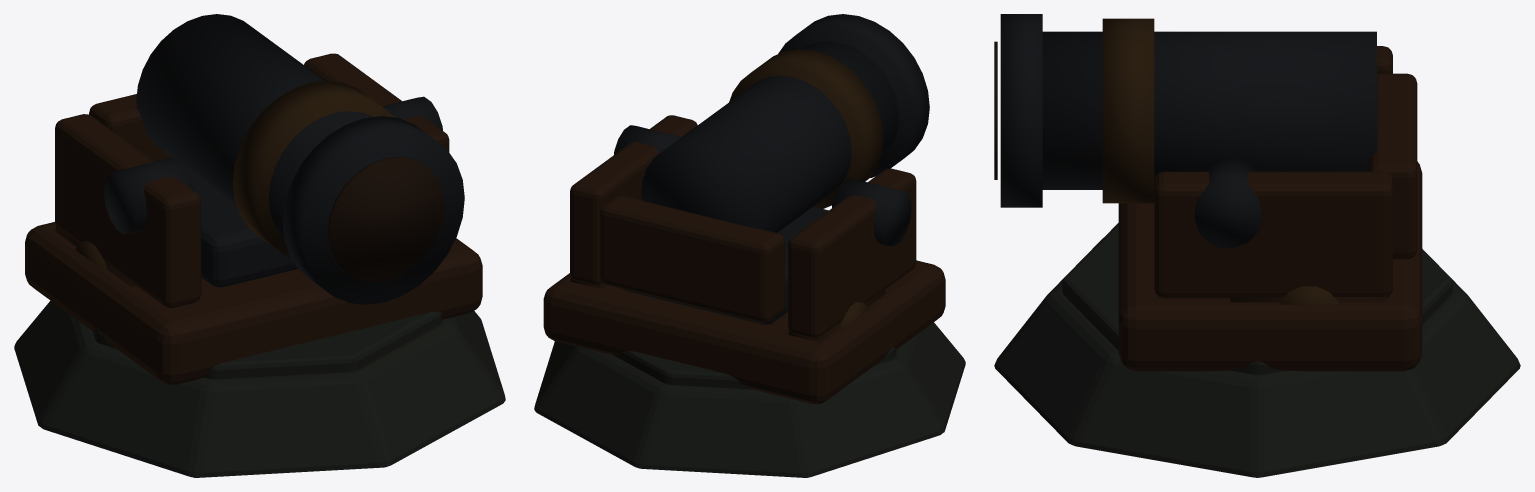
Rendered from TowerSiege0_pose.obj.
The picture shows the model from 3 angles, left to right: view 1: azimuth 30°, elevation 25°; view 2: azimuth 150°, elevation 25°; view 3: azimuth 270°, elevation 25°; orthographic projection. The views are drawn at different scales.
Parts seen in each view (by area): view 1: limestone_socket_lower_course, oak_carriage, forged_mortar_barrel, carriage_cheek, black_muzzle_rim, dark_bore, bronze_reinforce_collar, limestone_socket_upper_course, iron_cradle, iron_trunnion, carriage_cheek.001, recoil_stop (+1 smaller); view 2: limestone_socket_lower_course, oak_carriage, forged_mortar_barrel, recoil_stop, carriage_cheek, black_muzzle_rim, bronze_reinforce_collar, carriage_cheek.001, iron_trunnion, limestone_socket_upper_course, iron_cradle, iron_trunnion.001; view 3: limestone_socket_lower_course, forged_mortar_barrel, oak_carriage, carriage_cheek.001, bronze_reinforce_collar, black_muzzle_rim, recoil_stop, limestone_socket_upper_course, iron_trunnion.001, bronze_hub.001, wood_wheel.001, dark_bore.
Boxes of the visible parts, x1,y1,x2,y2 form: limestone_socket_lower_course: (14,300,505,477); oak_carriage: (25,222,482,384); forged_mortar_barrel: (136,14,373,238); carriage_cheek: (55,114,201,308); black_muzzle_rim: (282,116,464,304); dark_bore: (327,156,444,282); bronze_reinforce_collar: (232,81,395,258); limestone_socket_upper_course: (92,311,442,379); iron_cradle: (187,168,298,287); iron_trunnion: (104,157,194,234); carriage_cheek.001: (304,53,449,151); recoil_stop: (89,94,171,161); limestone_socket_lower_course: (534,322,965,477); oak_carriage: (543,260,945,404); forged_mortar_barrel: (641,41,898,232); recoil_stop: (600,195,784,322); carriage_cheek: (788,168,916,338); black_muzzle_rim: (778,14,929,178); bronze_reinforce_collar: (729,49,883,208); carriage_cheek.001: (570,115,697,285); iron_trunnion: (832,178,911,246); limestone_socket_upper_course: (613,347,896,389); iron_cradle: (623,206,828,324); iron_trunnion.001: (614,125,681,154); limestone_socket_lower_course: (994,238,1520,477); forged_mortar_barrel: (1042,31,1376,189); oak_carriage: (1118,161,1422,371); carriage_cheek.001: (1154,171,1392,298); bronze_reinforce_collar: (1102,18,1154,203); black_muzzle_rim: (1000,14,1042,207); recoil_stop: (1369,73,1417,259); limestone_socket_upper_course: (1062,223,1452,374); iron_trunnion.001: (1194,158,1262,247); bronze_hub.001: (1279,286,1338,304); wood_wheel.001: (1230,295,1387,302); dark_bore: (994,41,997,179).
Size of the model in its own units: 1.63 by 1.18 by 1.63.
